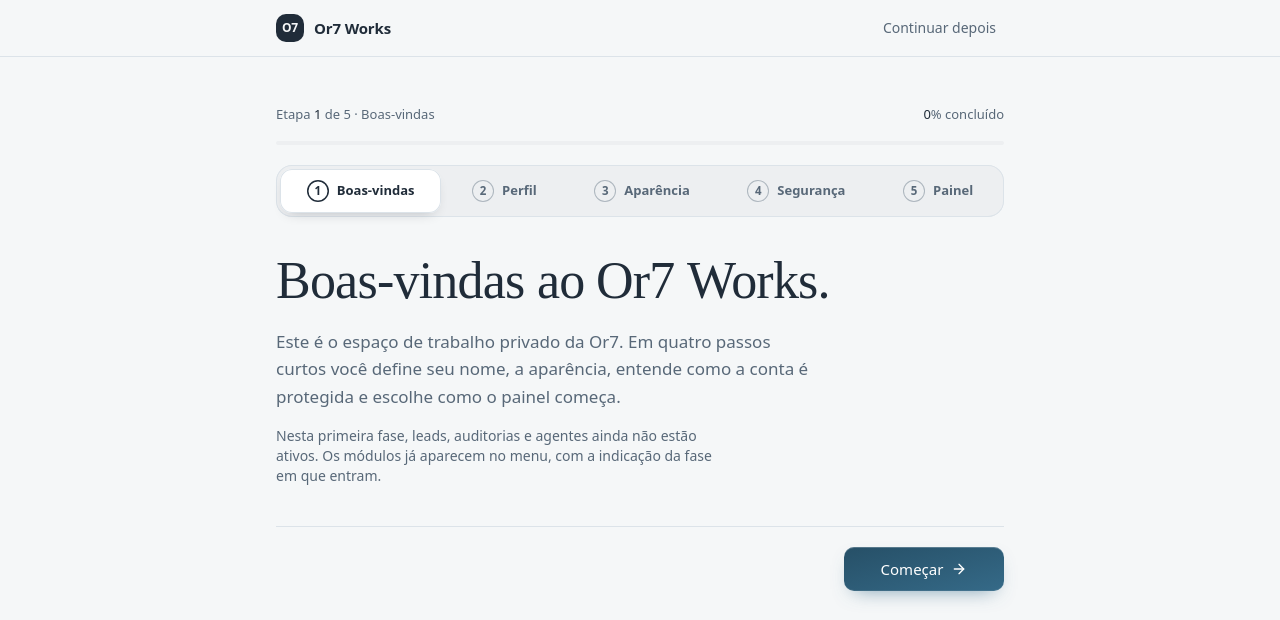
Test: Onboarding com Stepper › avança, marca a etapa como concluída e persiste o progresso
Click the button "Começar".
click(924, 570)  # box top-left (844, 548), bottom-right (1004, 592)
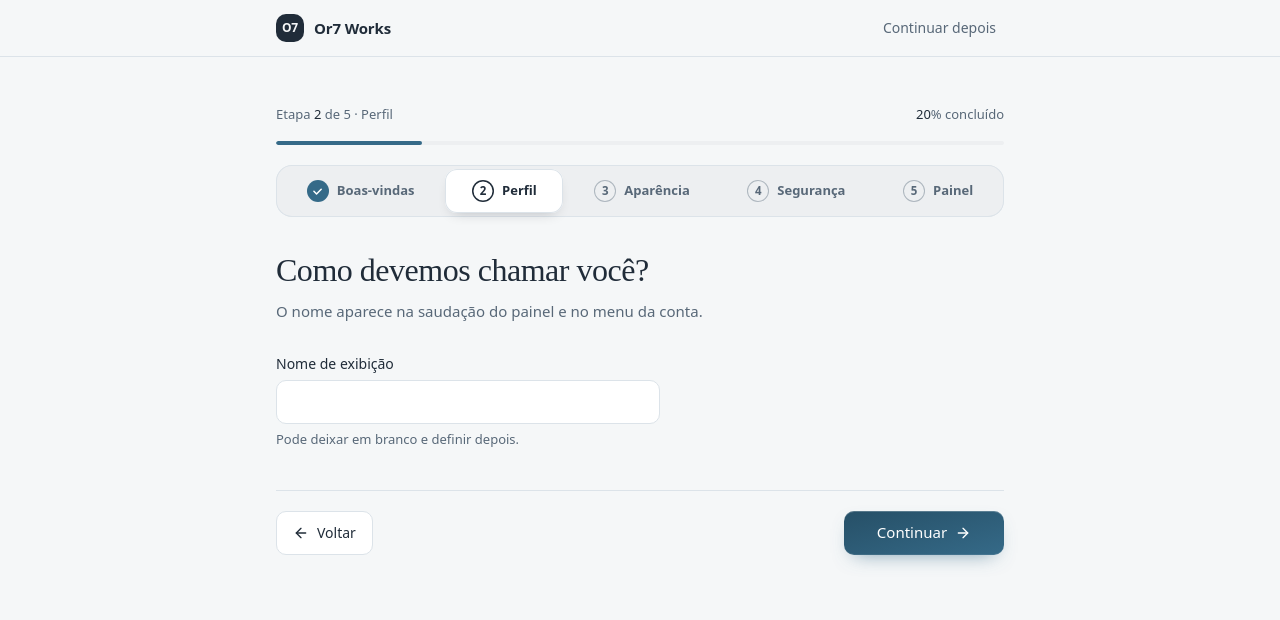
expect the heading "Como devemos chamar você?" is shown: met, box top-left (276, 252), bottom-right (649, 288)
expect the button with aria-label "1. Boas-vindas, concluída" is enabled: met, box top-left (280, 168), bottom-right (441, 212)
